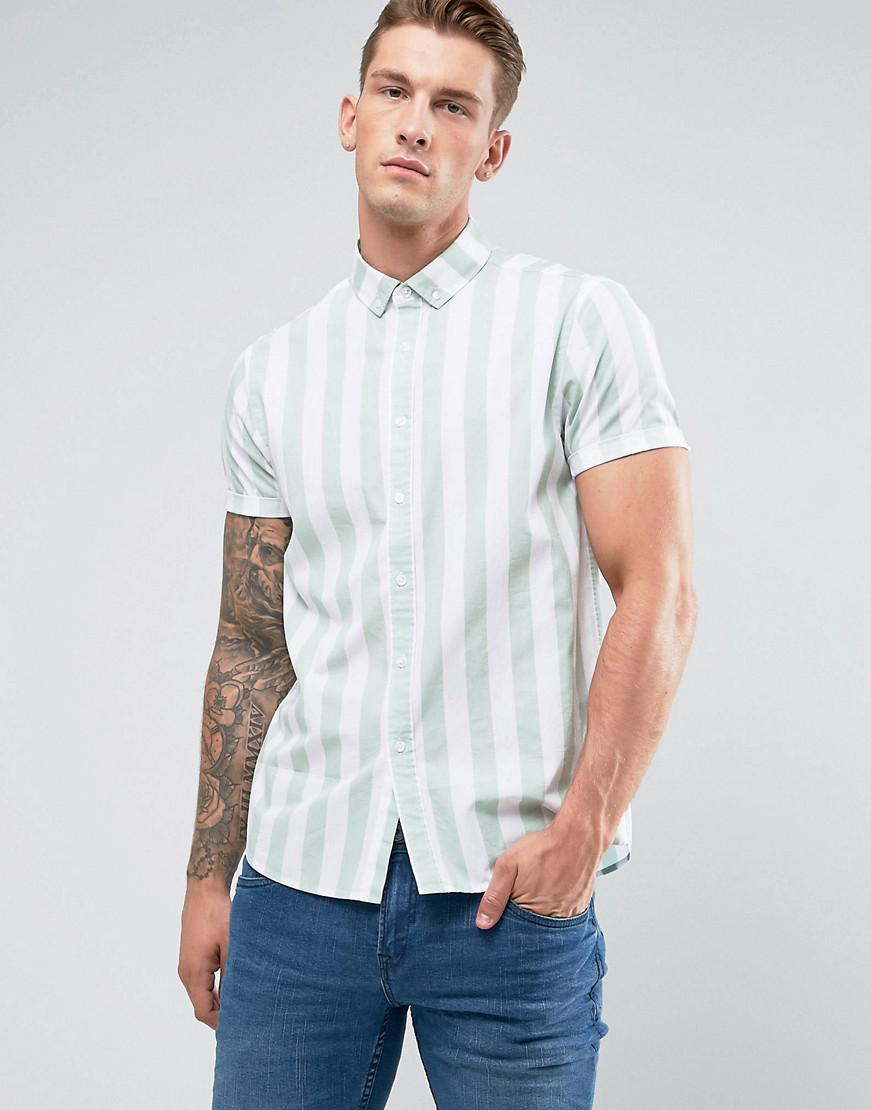teeshirt: (178, 222, 698, 927)
